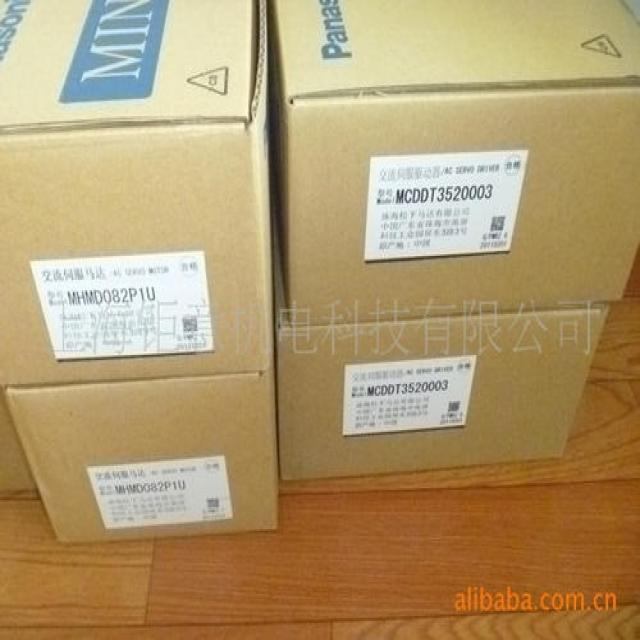box: (270, 2, 639, 325), (0, 1, 270, 388), (273, 216, 609, 483), (6, 374, 278, 543), (0, 387, 38, 498)
